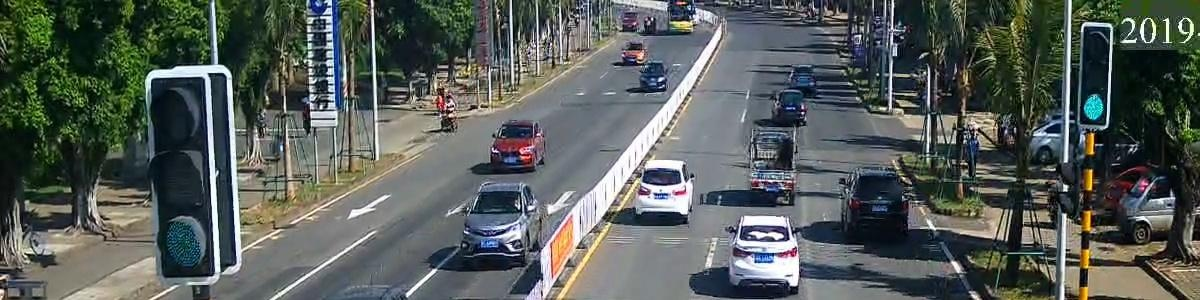green: (153, 216, 234, 272), (1079, 86, 1121, 128)
